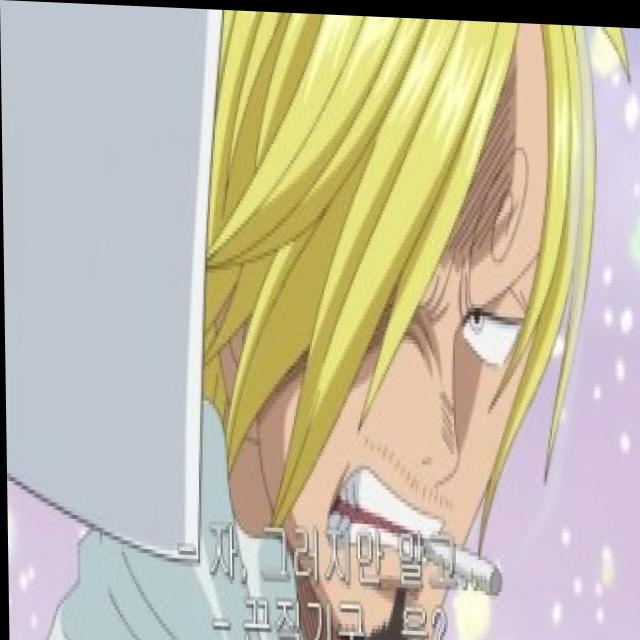Sangdi: (204, 8, 602, 640)
